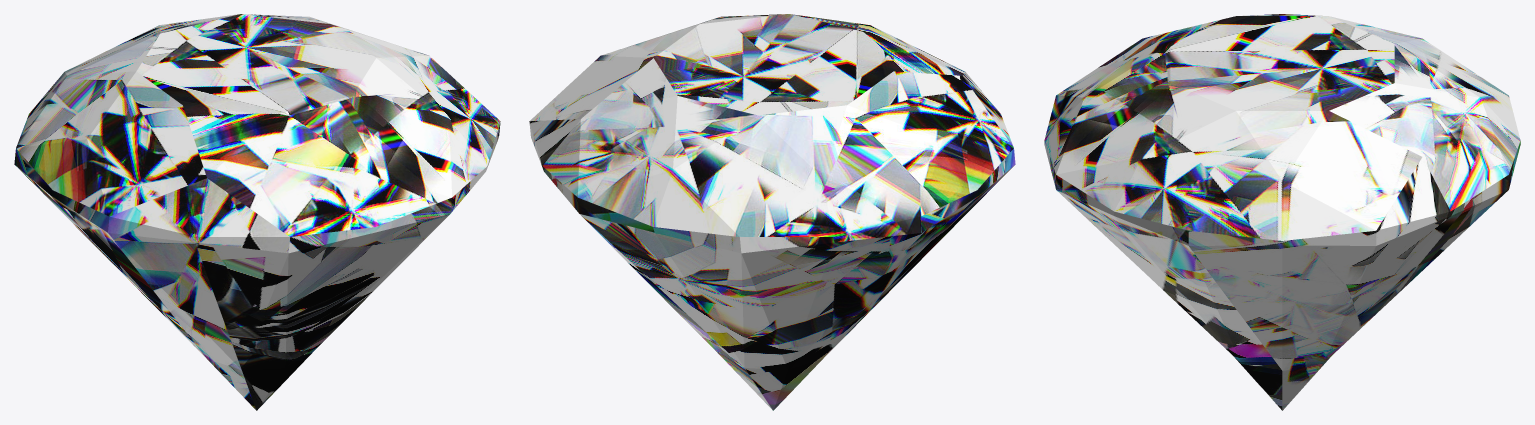
The model's file is diamond.glb.
3 renders of one model, left to right at view 1: azimuth 30°, elevation 25°; view 2: azimuth 150°, elevation 25°; view 3: azimuth 270°, elevation 25°, orthographic.
Visible parts, largest first — view 1: Cylinder; view 2: Cylinder; view 3: Cylinder.
Boxes of the visible parts, <box> form: Cylinder: <box>14,14,500,410</box>; Cylinder: <box>529,14,1015,410</box>; Cylinder: <box>1044,14,1520,410</box>.
Bounding box in the file's own units: 4.18 × 3.35 × 4.16.
Materials: 1 (1 with a texture image).
